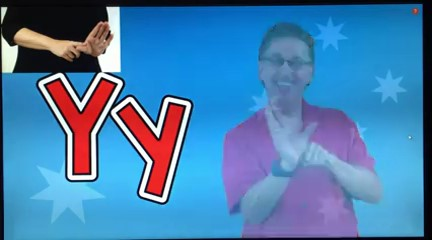Y: (48, 18, 120, 62)
